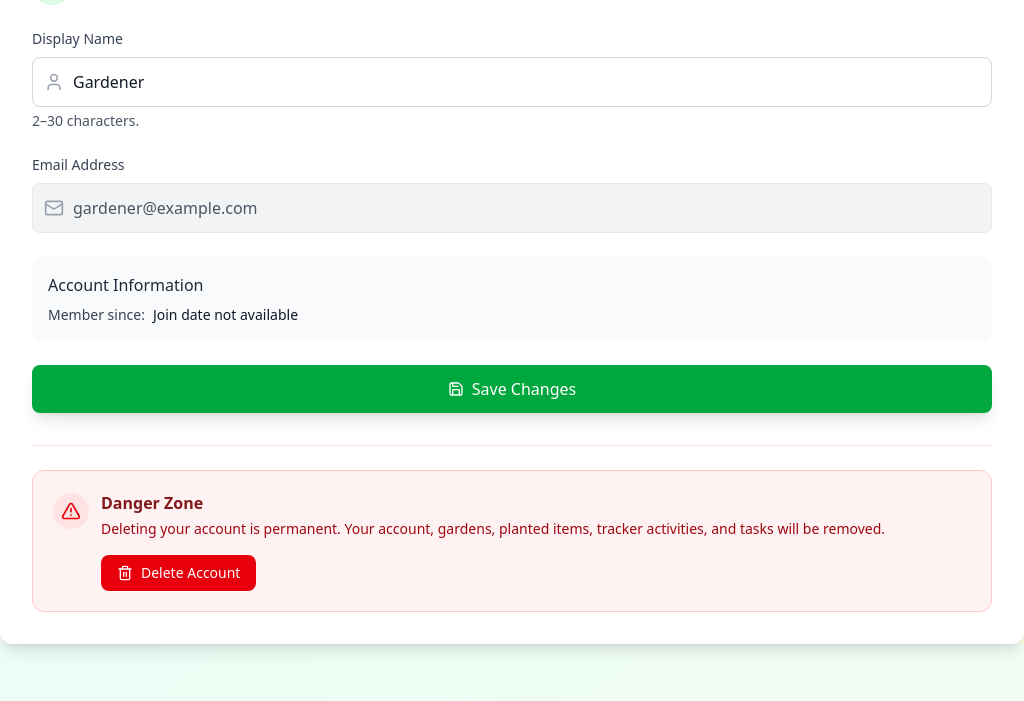
Test: normal profile › retains validation and saves corrected profile changes
This screenshot has width=1024, height=701.
Clear the field labelled "Display Name". click: {"x": 512, "y": 82}
box: [32,57,992,107]
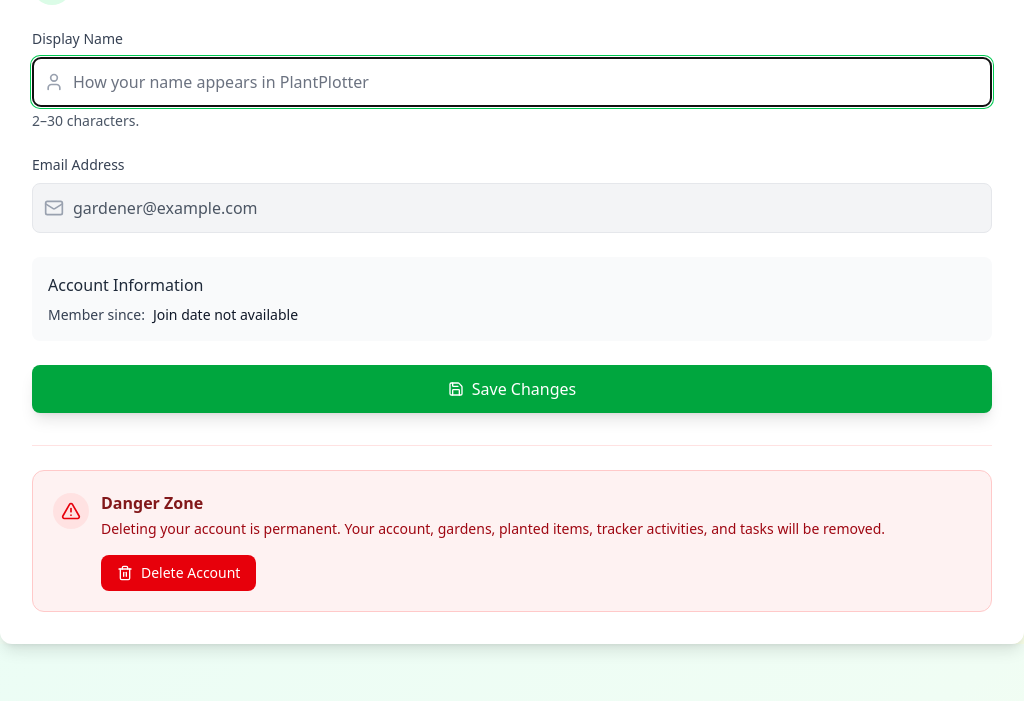
Click the button "Save Changes". click: {"x": 512, "y": 389}
box: [32,365,992,413]
(page scrolled)
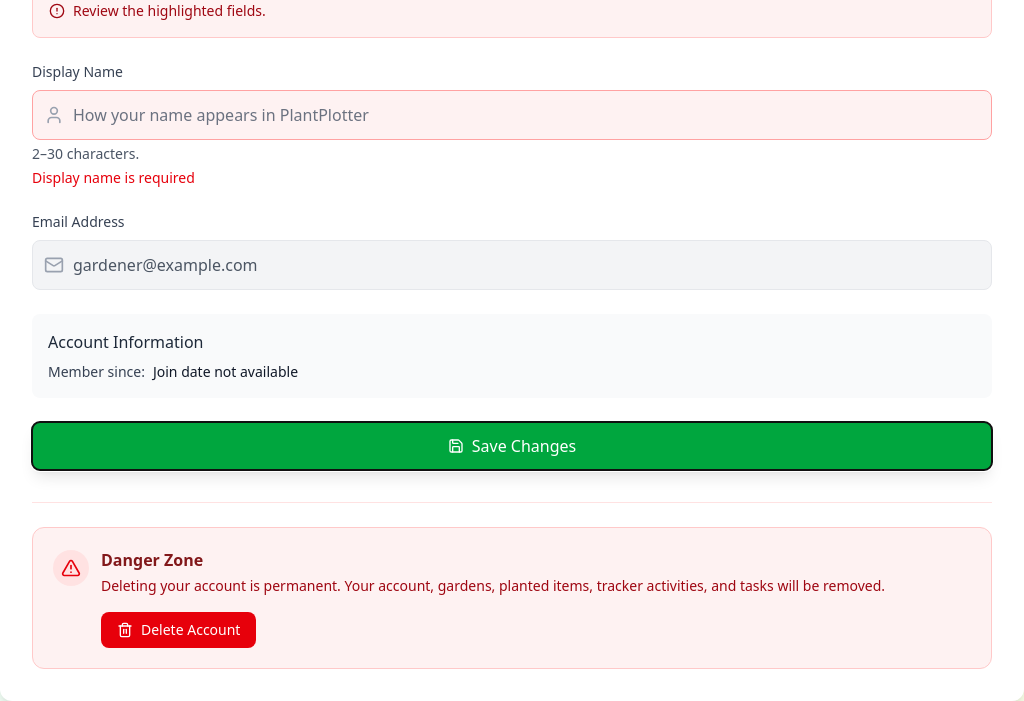
Now the text "Display name is required" is shown, box [32,168,195,187]
Type "Updated Gardener" into the field labelled "Display Name". click: {"x": 512, "y": 115}
box: [32,90,992,140]
(page scrolled)
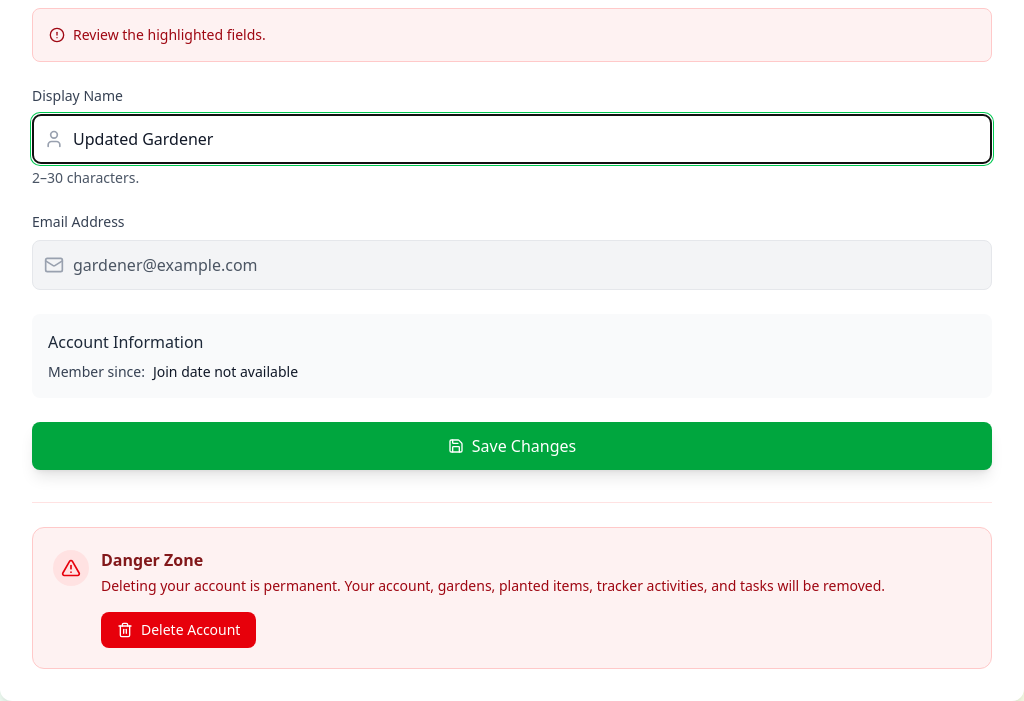
Click the button "Save Changes". click: {"x": 512, "y": 446}
box: [32,422,992,470]
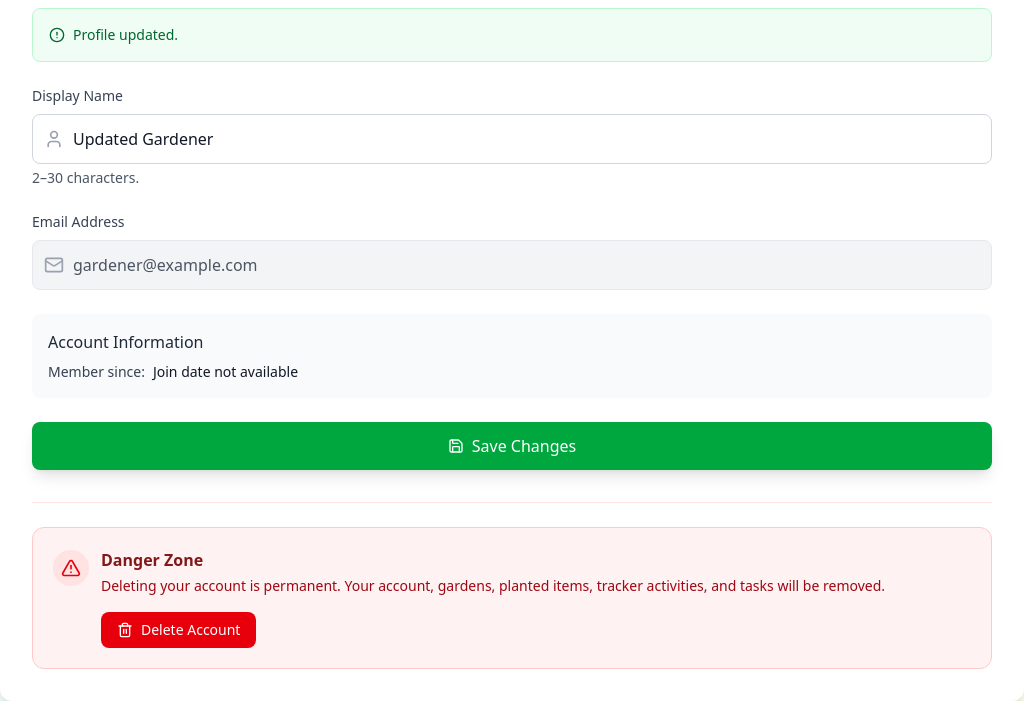
Now the text "Profile updated." is shown, box [73,25,178,45]
